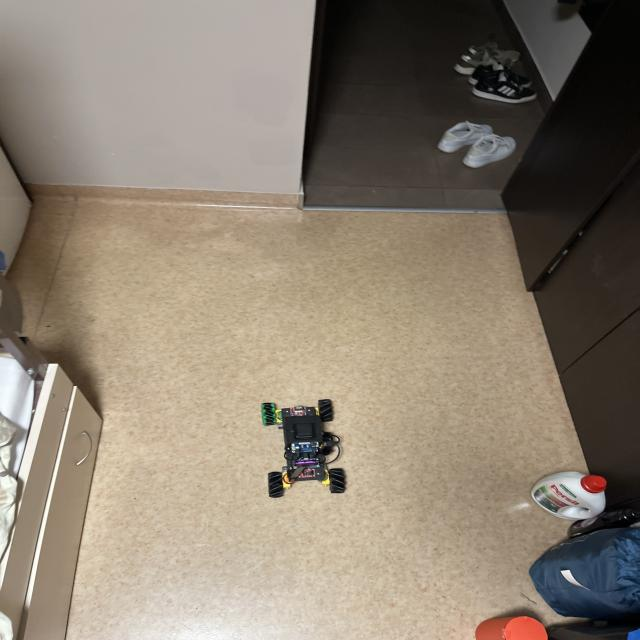robot: (261, 399, 345, 498)
